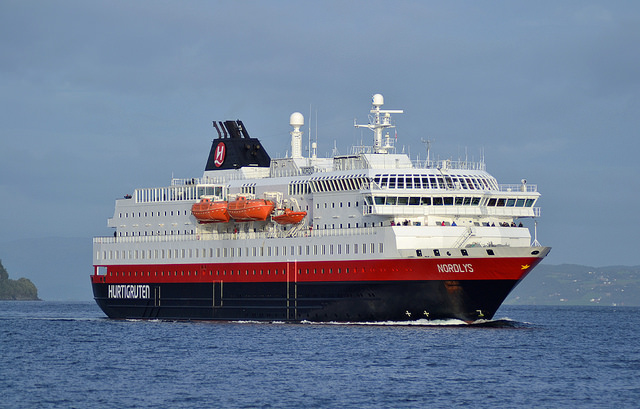cruise_ship: (89, 90, 553, 323)
